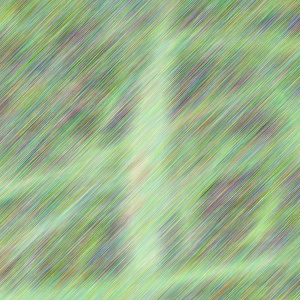Brown_Spot: (120, 147, 158, 190), (115, 190, 143, 226), (141, 70, 160, 104), (120, 233, 140, 253)
